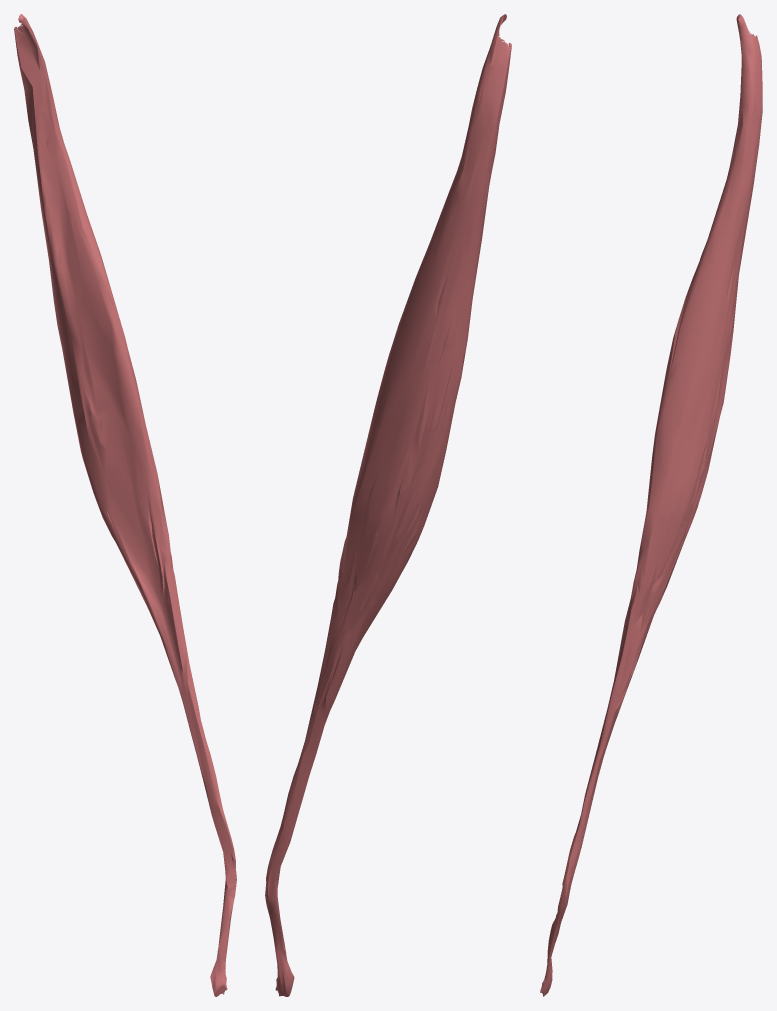
3 renders of one model, left to right at view 1: azimuth 30°, elevation 25°; view 2: azimuth 210°, elevation 25°; view 3: azimuth 270°, elevation 25°, orthographic. The views are drawn at different scales.
Visible parts, largest first — view 1: FJ1489M; view 2: FJ1489M; view 3: FJ1489M.
Part boxes in pixels (bbox=[...]): FJ1489M: bbox=[14, 14, 236, 996]; FJ1489M: bbox=[265, 14, 511, 996]; FJ1489M: bbox=[540, 14, 762, 996].
Bounding box in the file's own units: 0.044 × 0.301 × 0.0651.
